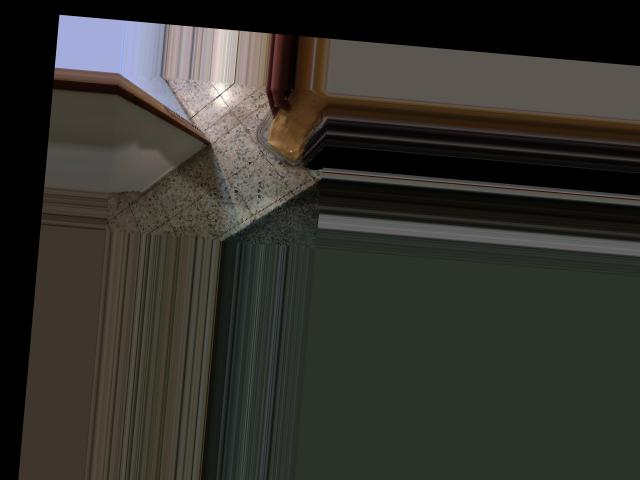cheese: (254, 84, 331, 167)
